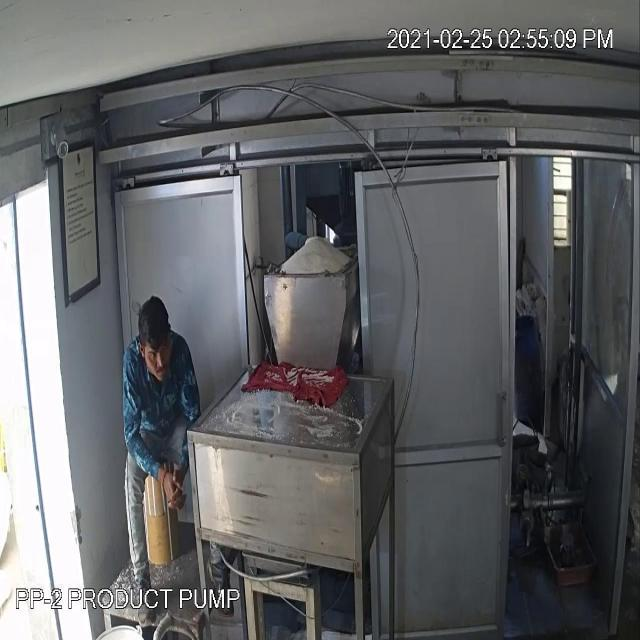no-helmet: (134, 295, 174, 347)
